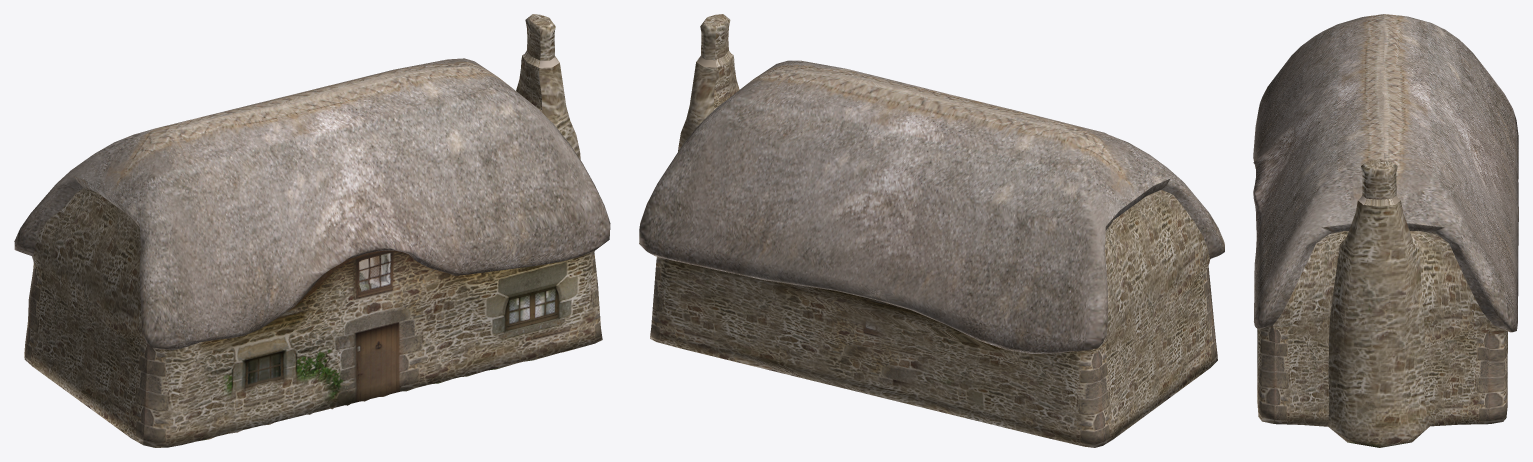
The model's file is mruh1lod2.obj.
3 renders of one model, left to right at view 1: azimuth 30°, elevation 25°; view 2: azimuth 150°, elevation 25°; view 3: azimuth 270°, elevation 25°, orthographic. The views are drawn at different scales.
Parts seen in each view (by area): view 1: _; view 2: _; view 3: _.
Part boxes in pixels (x1,y1,x2,y2): _: (14, 14, 610, 447); _: (639, 14, 1224, 447); _: (1253, 14, 1518, 447).
Bounding box in the file's own units: 520 × 286 × 254.
1 material, 1 textured.
